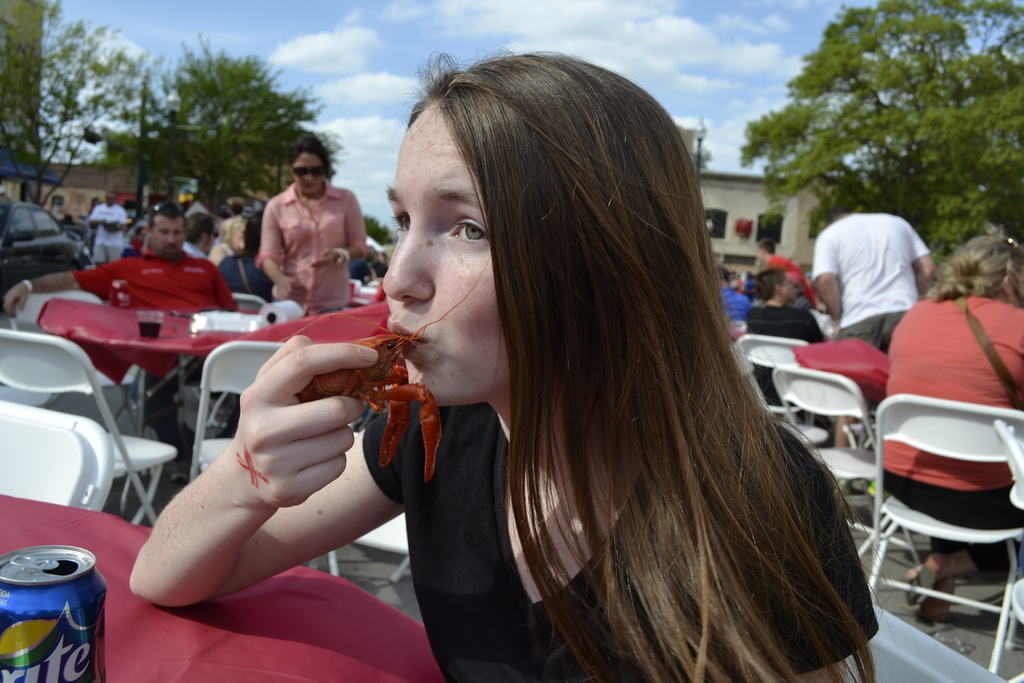cars: (0, 199, 85, 312)
